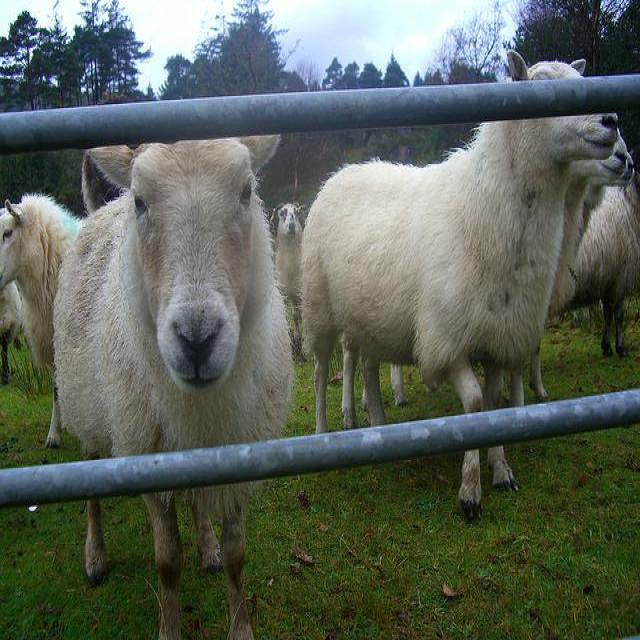Sheep: (301, 50, 620, 522), (56, 132, 292, 633), (530, 140, 634, 403), (0, 196, 89, 444), (562, 144, 639, 359), (545, 135, 626, 312), (270, 201, 305, 352)
